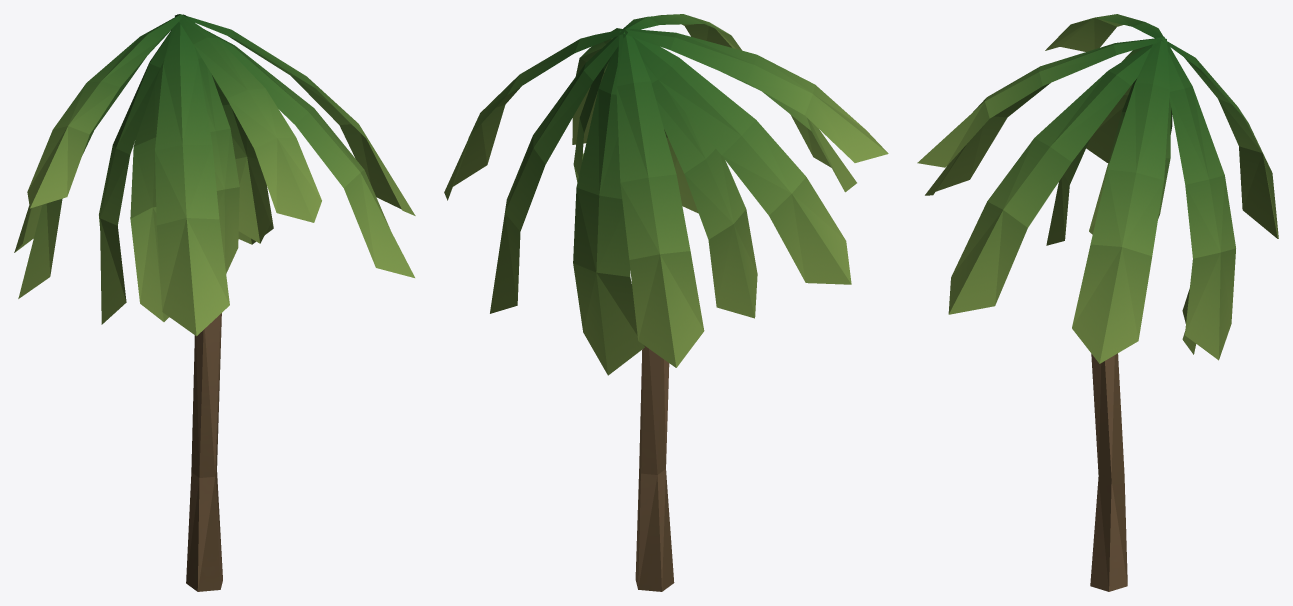
Rendered from Tree_2.fbx.
3 renders of one model, left to right at view 1: azimuth 30°, elevation 25°; view 2: azimuth 150°, elevation 25°; view 3: azimuth 270°, elevation 25°, orthographic. The views are drawn at different scales.
Visible parts, largest first — view 1: polySurface167; view 2: polySurface167; view 3: polySurface167.
Part boxes in pixels (x1,y1,x2,y2): polySurface167: (14, 14, 415, 591); polySurface167: (444, 14, 888, 591); polySurface167: (917, 14, 1278, 591).
Size of the model in its own units: 769 by 997 by 598.
